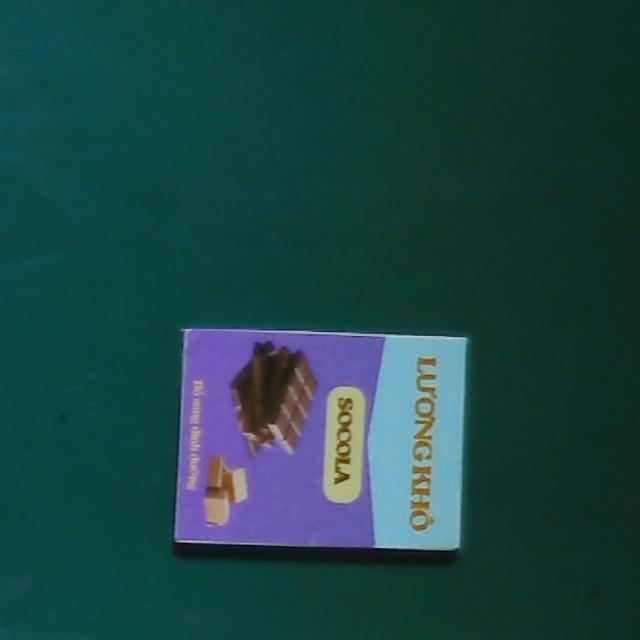socola: (175, 329, 466, 554)
